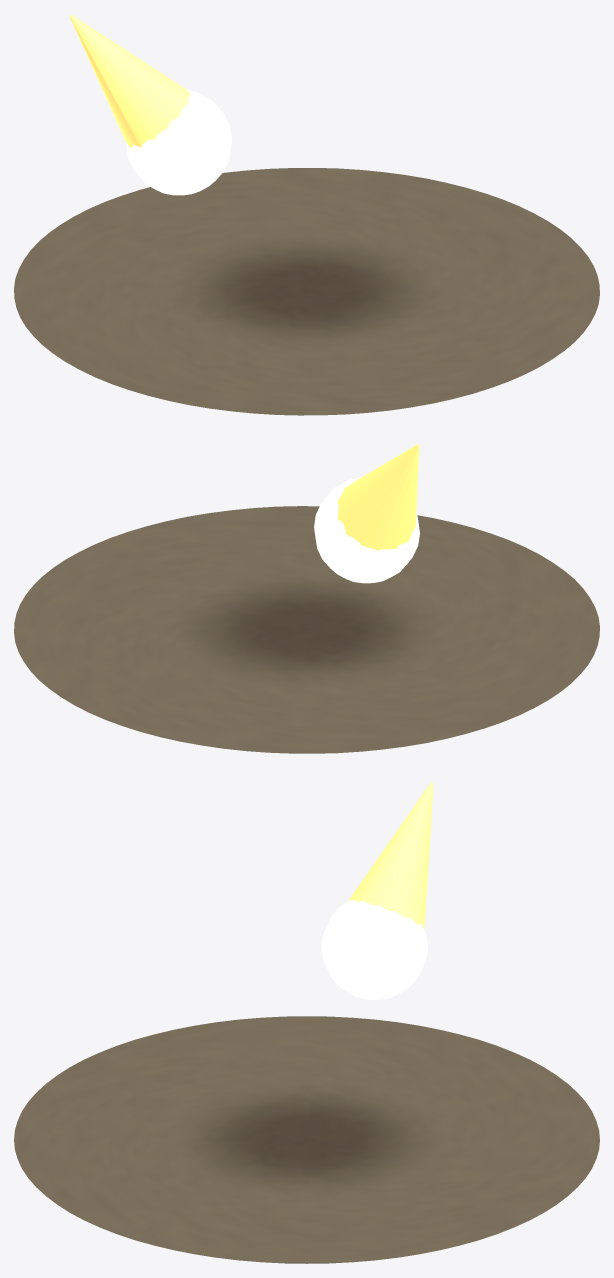
The model's file is impact-b30.glb.
3 views of the same model, one above another, from view 1: azimuth 30°, elevation 25°; view 2: azimuth 150°, elevation 25°; view 3: azimuth 270°, elevation 25° (orthographic).
Visible parts, largest first — view 1: ground, bolide, trail; view 2: ground, trail, bolide; view 3: ground, bolide, trail.
Part boxes in pixels (x1,y1,x2,y2): ground: [14, 168, 599, 415]; bolide: [126, 89, 231, 195]; trail: [69, 14, 190, 148]; ground: [14, 506, 599, 753]; trail: [337, 444, 419, 550]; bolide: [314, 477, 419, 583]; ground: [14, 1016, 599, 1263]; bolide: [321, 900, 427, 999]; trail: [348, 782, 433, 929].
Bounding box in the file's own units: 17 × 8.75 × 17.
